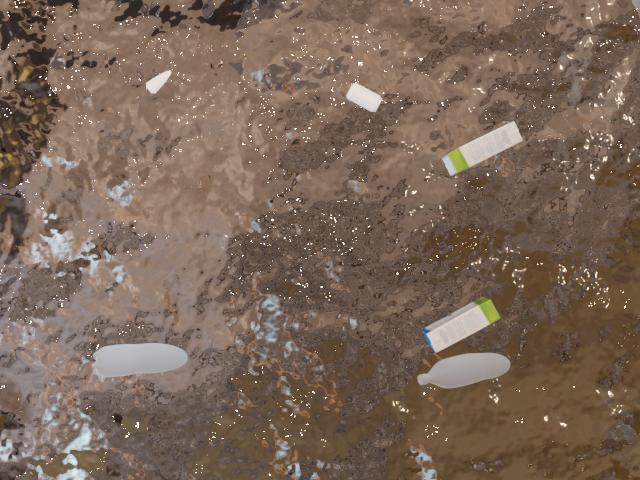Metal: (328, 74, 394, 119), (127, 63, 187, 101)
Plastic: (404, 338, 523, 399), (82, 333, 205, 386)
Trash: (405, 285, 511, 365), (431, 112, 532, 195)
